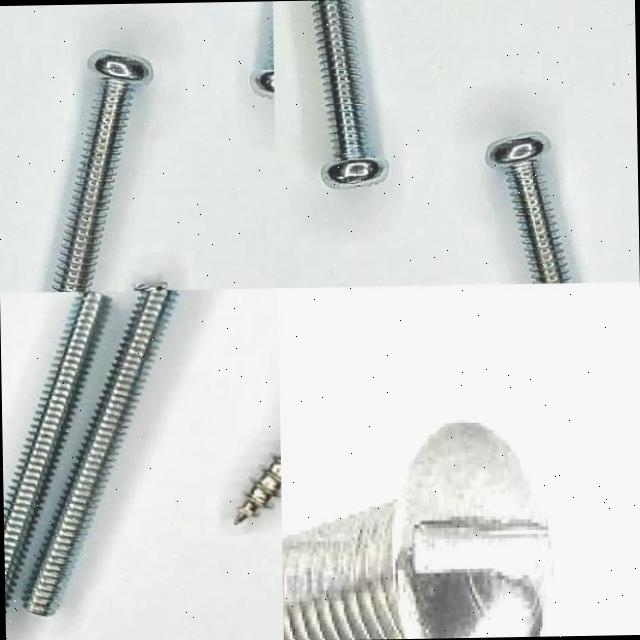Screw: (282, 415, 555, 640), (23, 290, 179, 615), (3, 291, 107, 613), (50, 52, 152, 292), (310, 0, 386, 187), (484, 132, 570, 283), (236, 452, 281, 524)
